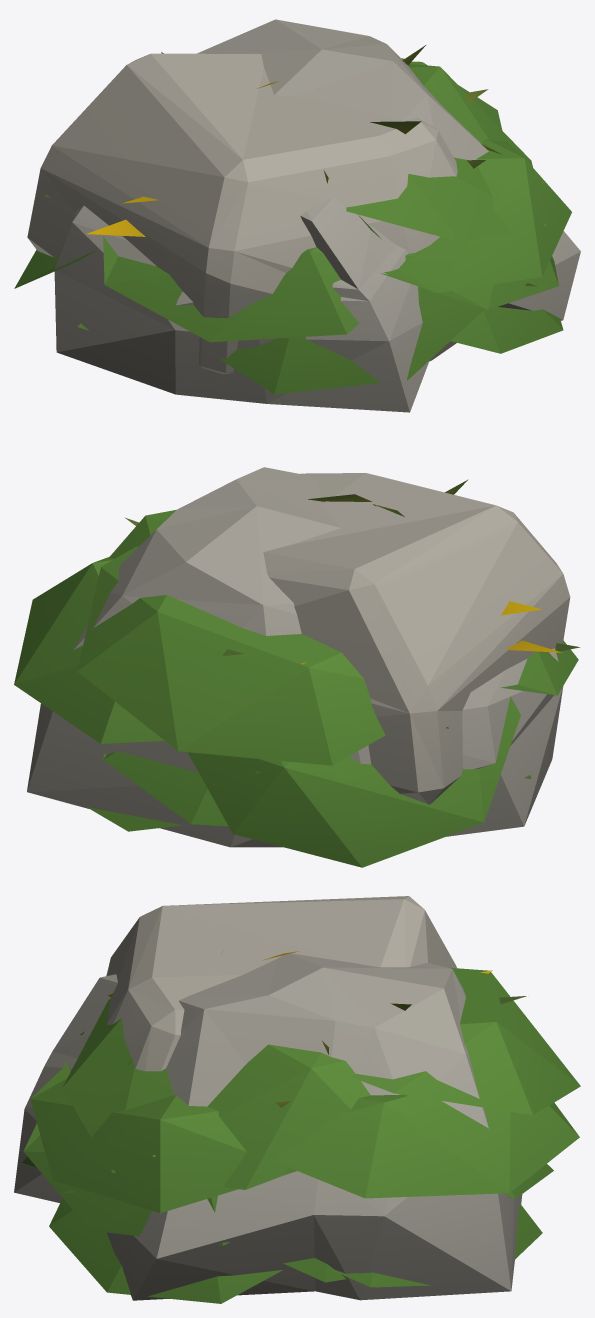
The model's file is scatter.glb.
3 renders of one model, top to bottom at view 1: azimuth 30°, elevation 25°; view 2: azimuth 150°, elevation 25°; view 3: azimuth 270°, elevation 25°, orthographic. The views are drawn at different scales.
Parts seen in each view (by area): view 1: boulder, slab, round, gorse; view 2: round, boulder, slab, gorse; view 3: round, slab, boulder.
Boxes of the visible parts, box(x1,y1,x2,y2) form: boulder: box(27, 53, 457, 374); slab: box(54, 19, 580, 412); round: box(14, 58, 571, 394); gorse: box(43, 45, 544, 286); round: box(14, 509, 578, 867); boulder: box(263, 473, 570, 804); slab: box(27, 467, 563, 847); gorse: box(125, 479, 579, 774); round: box(22, 967, 580, 1303); slab: box(14, 953, 522, 1300); boulder: box(106, 896, 456, 1071).
Bounding box in the file's own units: 1.99 × 1 × 2.01.
